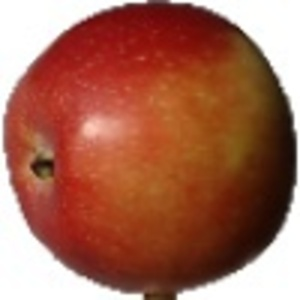maçã braeburn: (1, 2, 299, 294)
